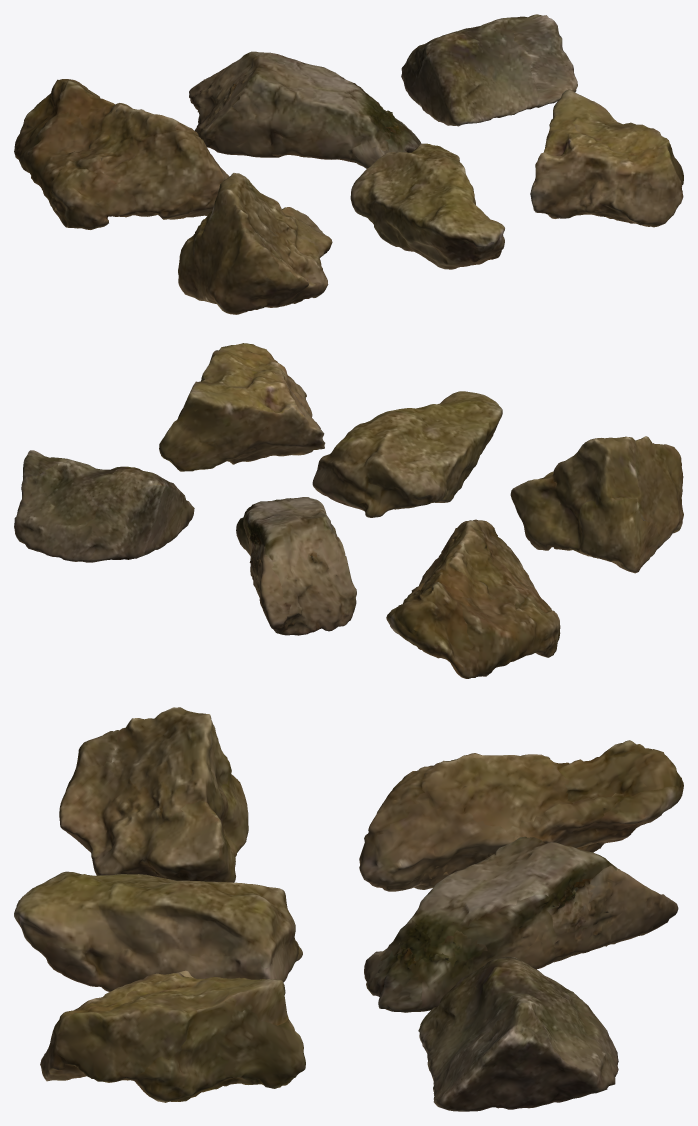
File: rock_moss_set_01.glb
The picture shows the model from 3 angles, top to bottom: view 1: azimuth 30°, elevation 25°; view 2: azimuth 150°, elevation 25°; view 3: azimuth 270°, elevation 25°; orthographic projection. The views are drawn at different scales.
Visible parts, largest first — view 1: rock_moss_set_01_rock01, rock_moss_set_01_rock02, rock_moss_set_01_rock06, rock_moss_set_01_rock04, rock_moss_set_01_rock03, rock_moss_set_01_rock05; view 2: rock_moss_set_01_rock04, rock_moss_set_01_rock01, rock_moss_set_01_rock05, rock_moss_set_01_rock03, rock_moss_set_01_rock06, rock_moss_set_01_rock02; view 3: rock_moss_set_01_rock01, rock_moss_set_01_rock02, rock_moss_set_01_rock05, rock_moss_set_01_rock04, rock_moss_set_01_rock06, rock_moss_set_01_rock03.
Boxes of the visible parts, x1,y1,x2,y2 form: rock_moss_set_01_rock01: (14,79,229,229); rock_moss_set_01_rock02: (189,51,421,168); rock_moss_set_01_rock06: (530,89,683,227); rock_moss_set_01_rock04: (178,173,332,314); rock_moss_set_01_rock03: (401,14,577,126); rock_moss_set_01_rock05: (350,143,504,269); rock_moss_set_01_rock04: (510,436,683,573); rock_moss_set_01_rock01: (386,519,560,678); rock_moss_set_01_rock05: (312,391,502,517); rock_moss_set_01_rock03: (14,450,194,562); rock_moss_set_01_rock06: (159,343,325,471); rock_moss_set_01_rock02: (236,497,356,635); rock_moss_set_01_rock01: (359,740,683,891); rock_moss_set_01_rock02: (364,836,678,1012); rock_moss_set_01_rock05: (14,871,302,991); rock_moss_set_01_rock04: (59,707,248,882); rock_moss_set_01_rock06: (40,970,305,1102); rock_moss_set_01_rock03: (418,956,618,1111).
Bounding box in the file's own units: 8 × 1.77 × 6.95.
Materials: 1 (1 with a texture image).
